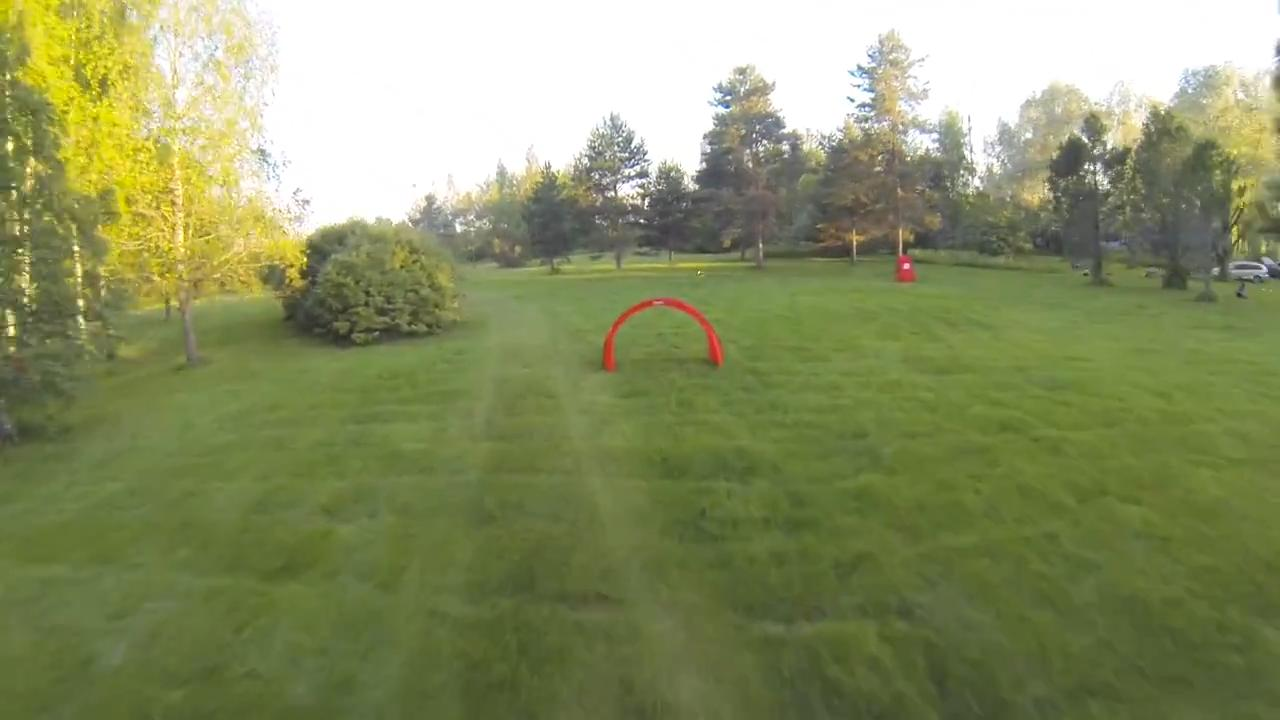gate: (599, 296, 723, 371)
